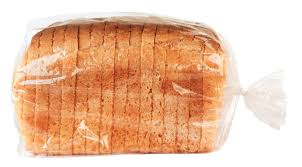bread: (5, 11, 277, 161)
